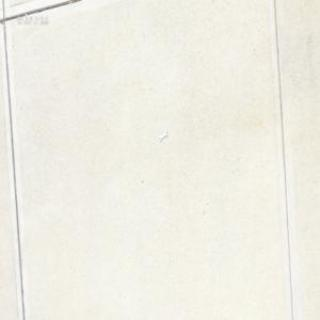Wrenchtrack_idkeyframe: (158, 130, 167, 141)
